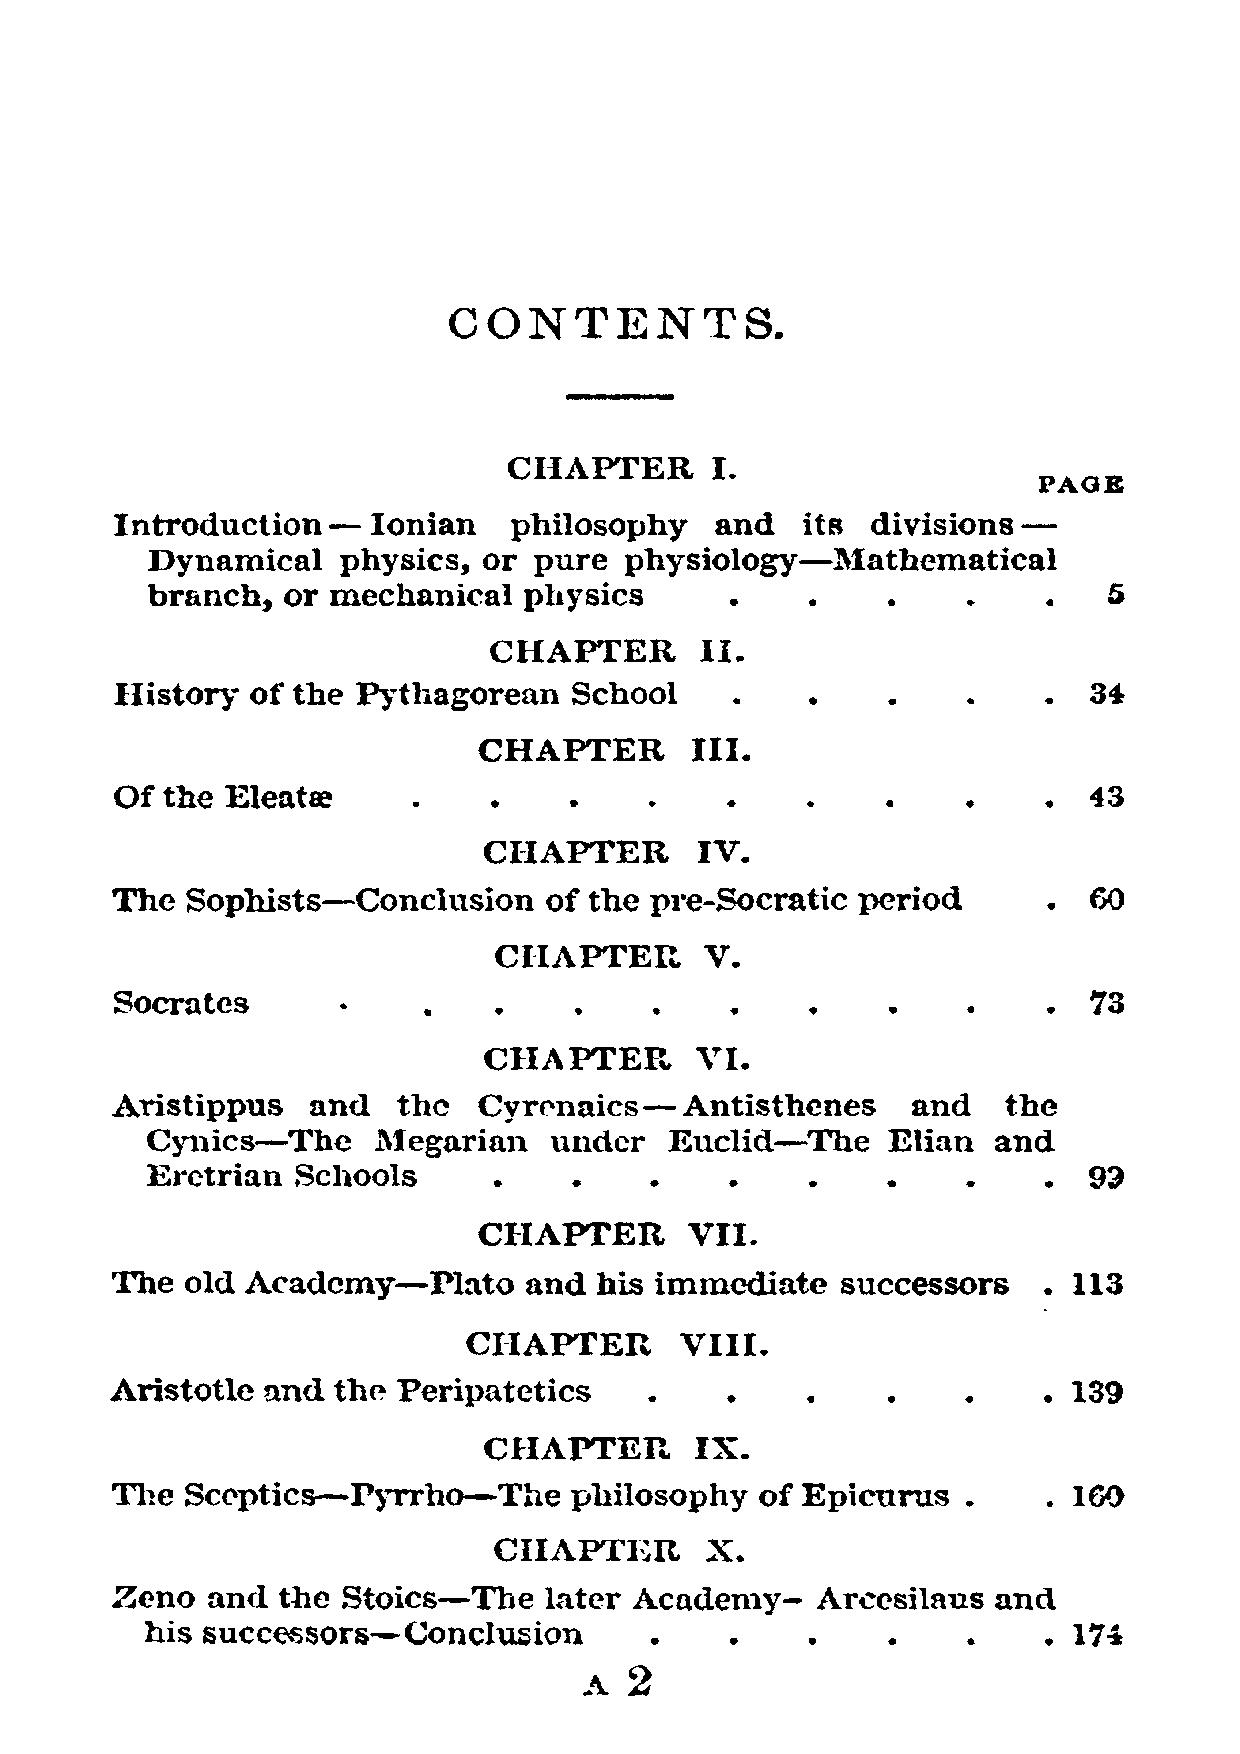TOC_chapter: (103, 1088, 1057, 1194), (107, 509, 1059, 615), (109, 1582, 1056, 1649), (105, 883, 965, 917), (109, 1479, 961, 1508), (103, 1268, 1024, 1295), (111, 676, 680, 710), (105, 1372, 595, 1409), (466, 1325, 773, 1359), (474, 1217, 757, 1249), (487, 633, 745, 668), (480, 1041, 753, 1074), (488, 1533, 746, 1566), (502, 450, 746, 484), (491, 939, 742, 972), (110, 778, 337, 813), (478, 735, 753, 764), (480, 837, 752, 866), (476, 1435, 753, 1461), (103, 984, 254, 1019)
TOC_pagenumber: (1067, 1259, 1127, 1298), (1067, 1369, 1127, 1408), (1080, 772, 1129, 816), (1078, 874, 1129, 913), (1067, 1476, 1125, 1510), (1070, 1614, 1129, 1647), (1088, 667, 1127, 714), (1098, 565, 1133, 612), (1083, 981, 1127, 1017), (1088, 1159, 1129, 1194)
chapter: (444, 293, 784, 345)
